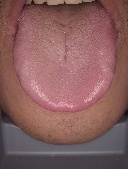tongue: (12, 11, 117, 114)
